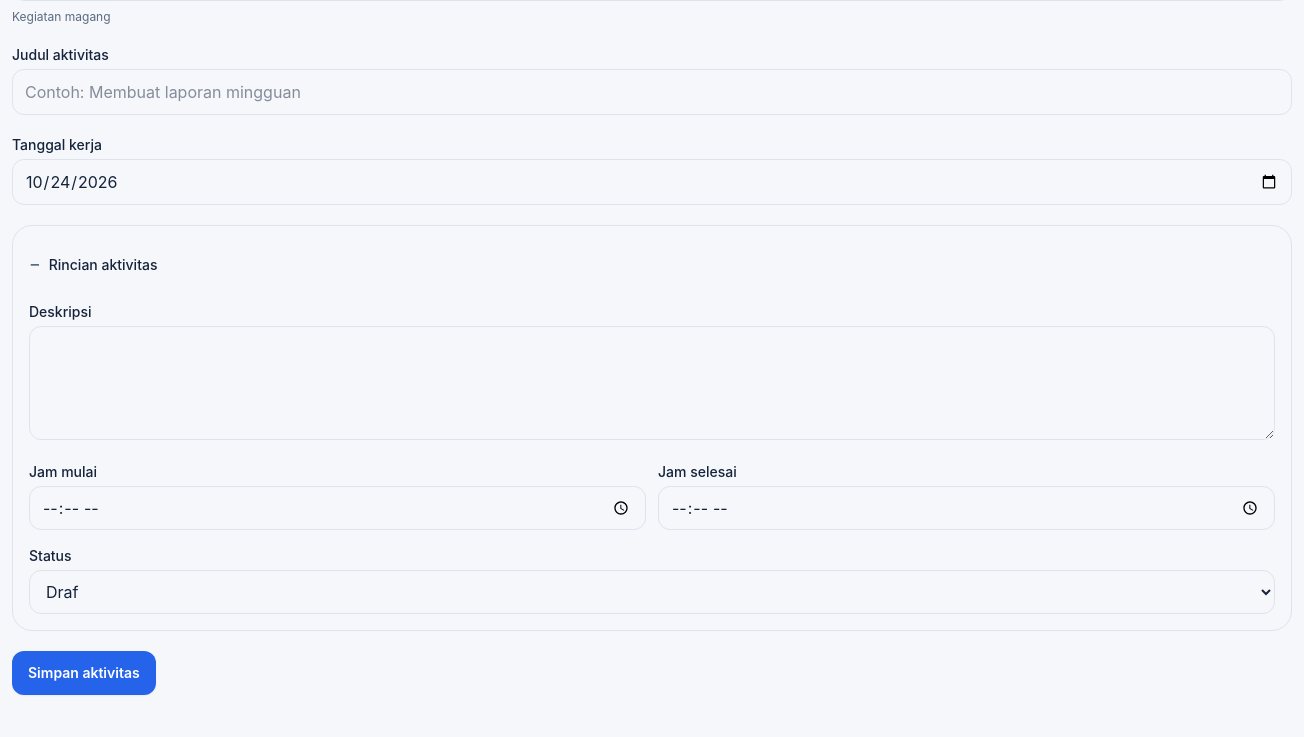
Test: Accessible interaction regressions › preserves the draft immediately when a save fails before the autosave timer
The width and height of the screenshot is (1304, 737).
In the field labelled "Judul aktivitas": (652, 92) [12,69,1292,115], type "Work in progress"
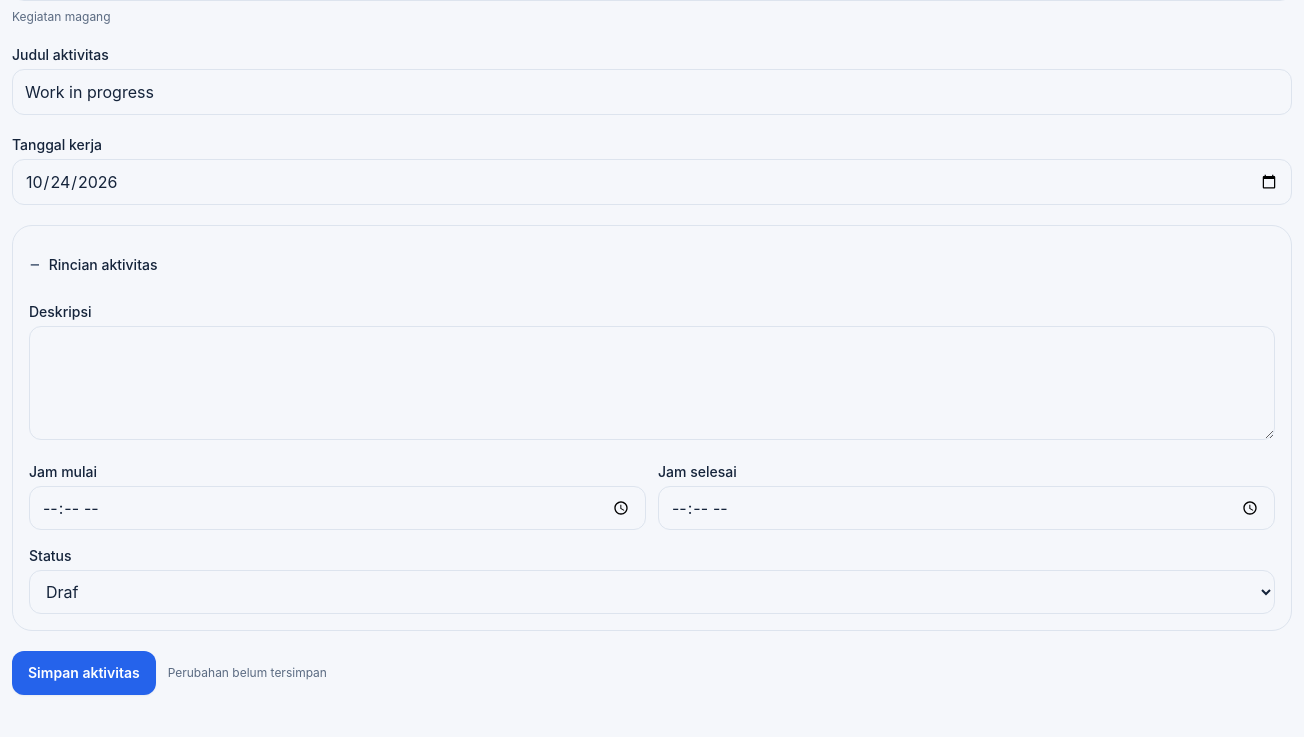
Click the button "Simpan aktivitas": (84, 673) [12,651,156,695]
(page scrolled)
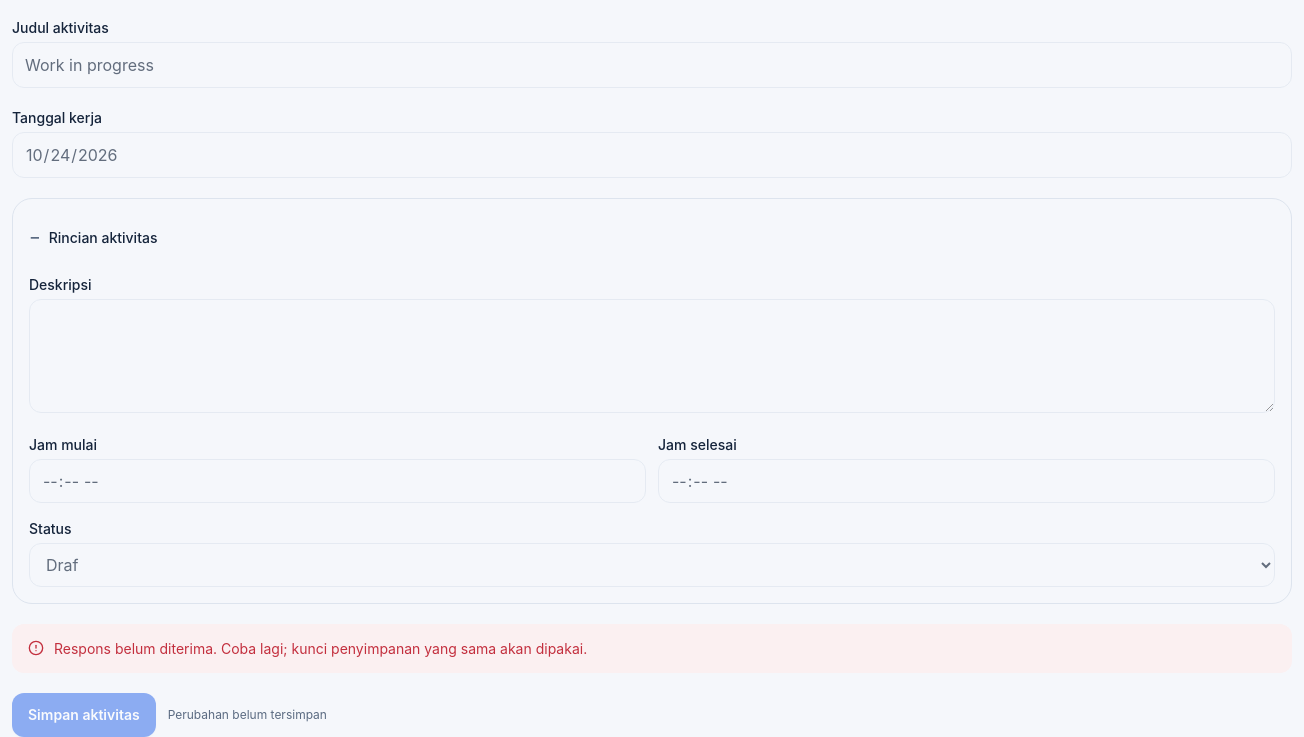
Now the message "Respons belum diterima. Coba lagi; kunci penyimpanan yang sama akan dipakai." is shown, box [12,624,1292,673]
